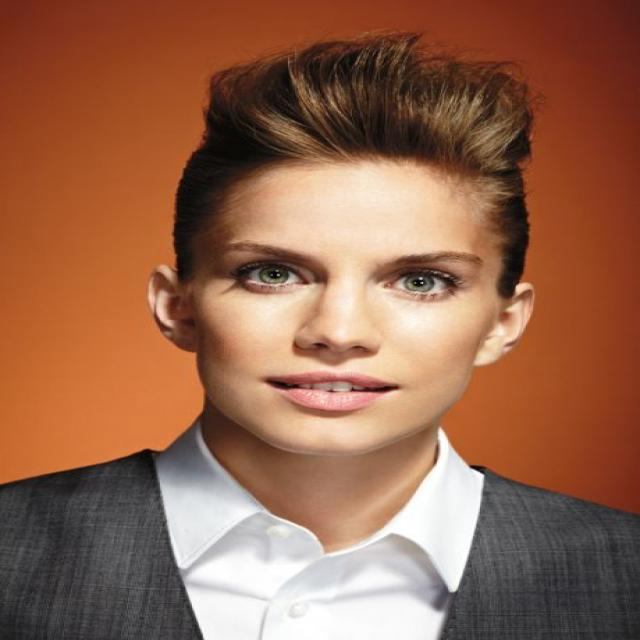earlobe: (171, 326, 203, 353), (473, 345, 506, 367)
eye: (383, 268, 457, 295), (234, 262, 307, 288)
nose: (295, 340, 384, 369)
wholeear: (472, 283, 539, 366), (150, 266, 203, 354)
